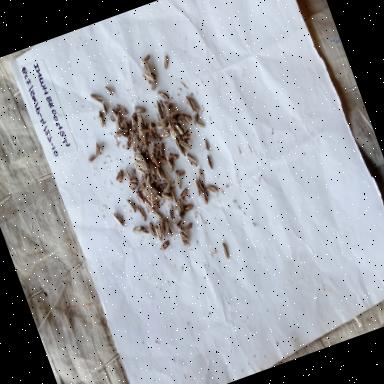pbw: (118, 116, 134, 140), (152, 98, 168, 121), (203, 178, 221, 198), (138, 56, 154, 78), (94, 107, 109, 130), (163, 153, 178, 175), (156, 237, 174, 255), (148, 188, 162, 211), (198, 185, 212, 208), (159, 51, 173, 74), (114, 99, 130, 119), (122, 196, 138, 216), (126, 133, 142, 153), (178, 135, 194, 154), (185, 151, 200, 171), (95, 140, 110, 160), (148, 152, 163, 172), (168, 112, 186, 128), (142, 68, 158, 86), (90, 90, 106, 108), (132, 150, 148, 168), (140, 184, 156, 202), (150, 160, 163, 182), (219, 240, 232, 262), (112, 167, 127, 186), (191, 178, 205, 198), (174, 138, 188, 158), (144, 119, 158, 139), (112, 111, 126, 131), (139, 130, 153, 150), (126, 112, 140, 132), (202, 152, 216, 172), (187, 95, 201, 115), (172, 196, 185, 217), (154, 116, 171, 132), (156, 87, 172, 104), (156, 141, 171, 159), (90, 139, 104, 158), (154, 219, 168, 238), (134, 186, 146, 208), (184, 93, 196, 115), (146, 220, 159, 240), (178, 127, 194, 143), (131, 102, 147, 118), (148, 192, 164, 208), (160, 188, 175, 205), (122, 134, 136, 152), (162, 222, 176, 240), (180, 110, 194, 128), (150, 206, 164, 224), (110, 106, 124, 124), (178, 186, 192, 204), (149, 128, 163, 146), (195, 168, 208, 187), (136, 204, 148, 224), (166, 120, 178, 140), (100, 99, 112, 119), (166, 203, 178, 223), (167, 147, 181, 164), (178, 230, 192, 247), (190, 110, 203, 128), (134, 114, 147, 132), (158, 167, 171, 185), (168, 185, 180, 204), (152, 224, 164, 243), (144, 195, 156, 214), (146, 77, 160, 93), (86, 152, 100, 168), (103, 83, 116, 100), (150, 183, 162, 201), (157, 218, 169, 236), (171, 214, 186, 228), (200, 183, 211, 202), (139, 223, 152, 239), (173, 175, 185, 192), (144, 60, 156, 77), (148, 164, 158, 184), (201, 135, 212, 153), (123, 168, 134, 186), (194, 118, 208, 132), (140, 51, 154, 65), (148, 140, 162, 154), (130, 222, 144, 236), (114, 127, 128, 141), (156, 154, 170, 168), (168, 106, 182, 120), (134, 164, 148, 178), (182, 201, 197, 214), (164, 178, 176, 194), (158, 129, 172, 142), (128, 182, 142, 195), (182, 220, 196, 233), (158, 180, 173, 192), (142, 174, 154, 189), (174, 122, 185, 138), (174, 167, 187, 180), (136, 160, 148, 174), (177, 224, 189, 238), (136, 135, 148, 149), (126, 174, 140, 186), (172, 200, 186, 212), (162, 97, 174, 110), (136, 182, 148, 195), (140, 144, 152, 156)
